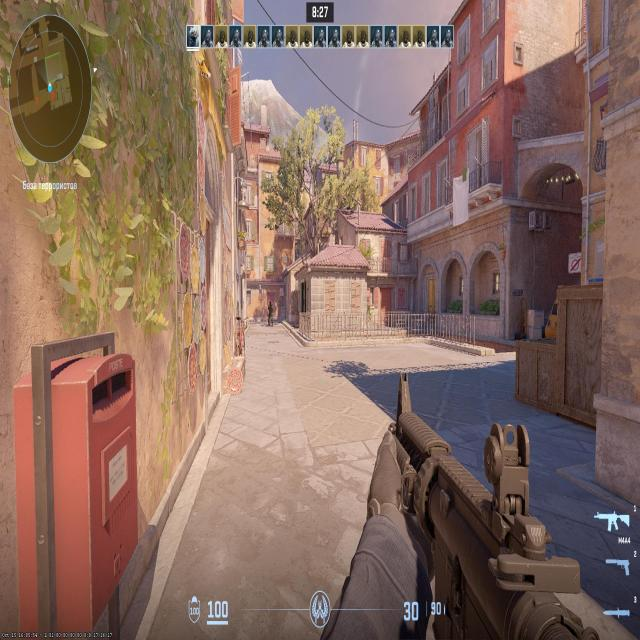CT: (268, 301, 273, 325)
CT_heat: (270, 302, 271, 306)
